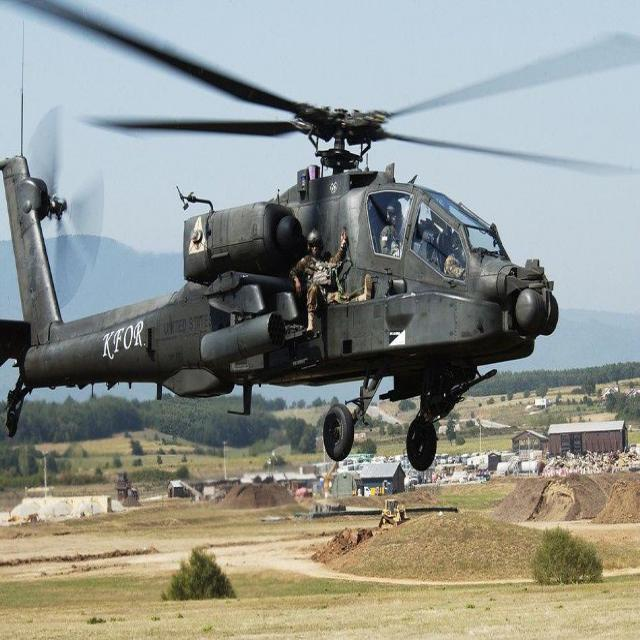MIL_HELO: (0, 0, 638, 472)
